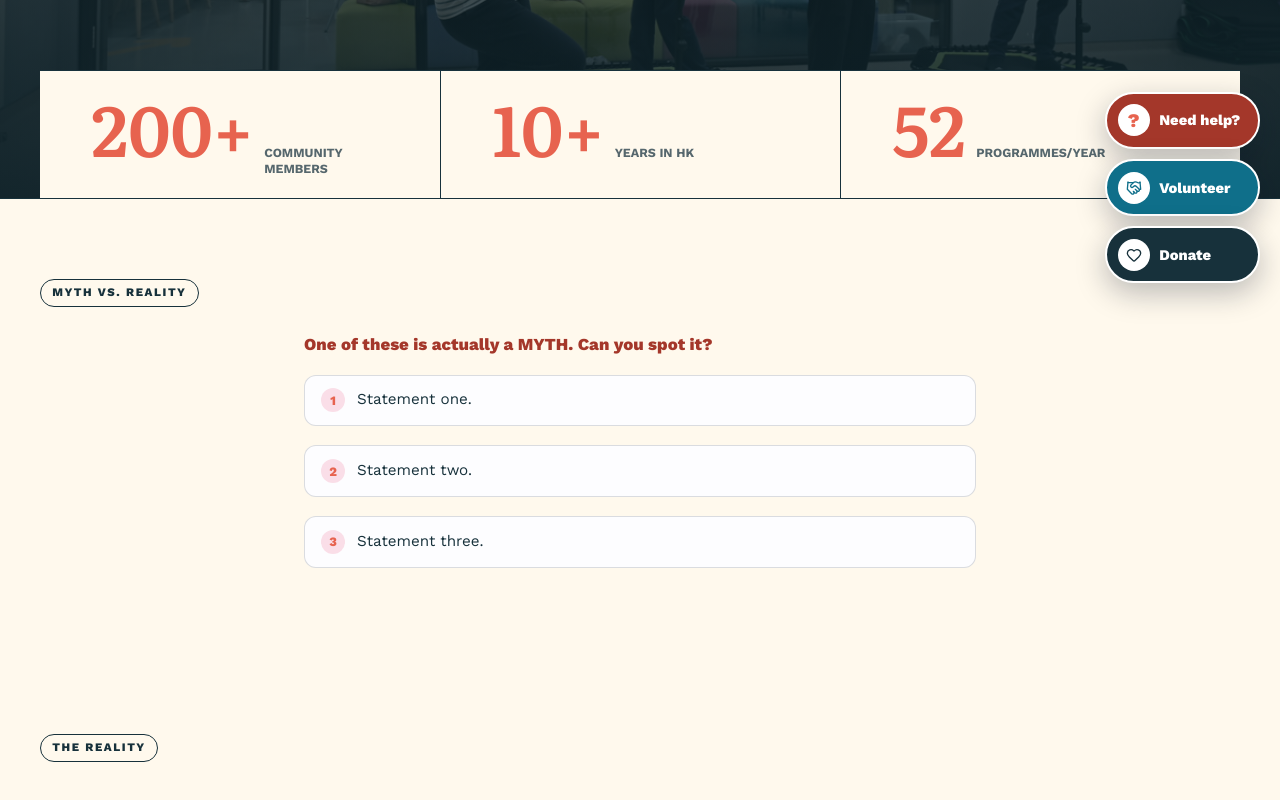
Test: landing page myth check › reveals the answer and community count after a visitor picks a statement
The width and height of the screenshot is (1280, 800).
(page scrolled)
Expected: the element named "Myth check" is shown, [0,199,1279,657]
Click the button "1 Statement one.".
click(414, 399)  # box [304,375,976,426]
(page scrolled)
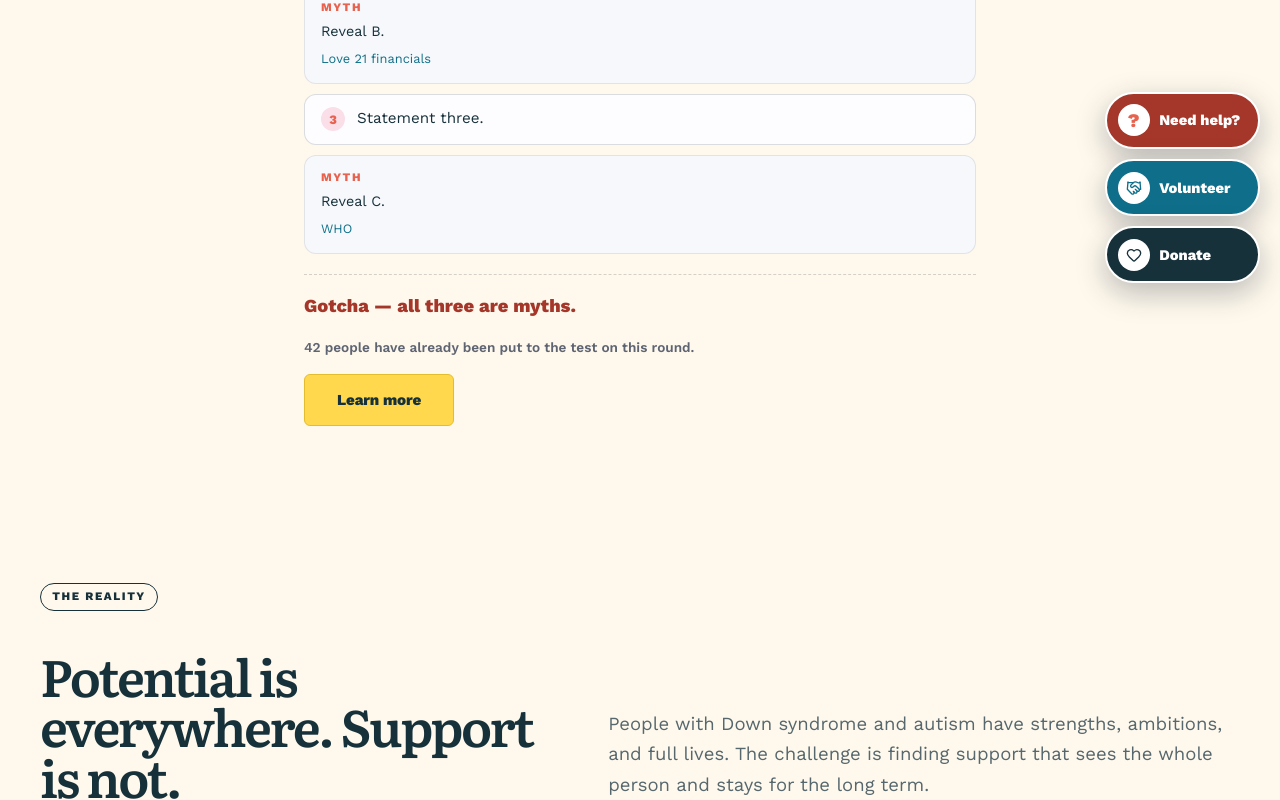
Expected: the text "Gotcha — all three are myths." is shown, [304,295,576,316]
Expected: the text "Reveal B." is shown, [321,23,384,39]
Expected: the text "Reveal C." is shown, [321,193,385,209]
